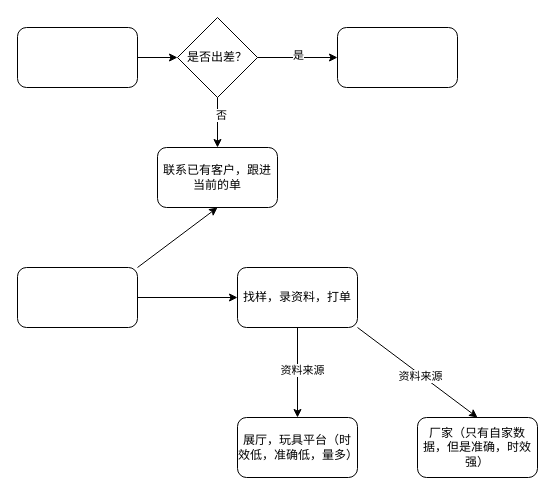
This 555x495 diagram has some shape labels left out. The shapes that lost their labels are listed below. From the top down, each one's centre as x and y in pixels, then its label:
At [77,57]: "业务员".
At [397,57]: "开拓新采购商".
At [77,297]: "文员".
